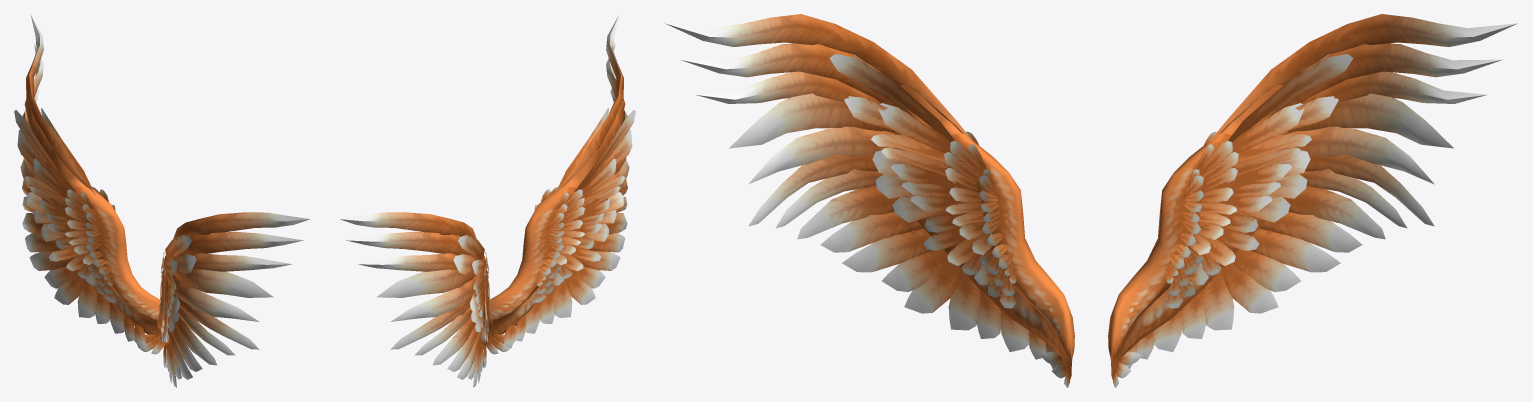
The model's file is Wings.glb.
3 renders of one model, left to right at view 1: azimuth 30°, elevation 25°; view 2: azimuth 150°, elevation 25°; view 3: azimuth 270°, elevation 25°, orthographic. The views are drawn at different scales.
Visible parts, largest first — view 1: Extras; view 2: Extras; view 3: Extras.
Part boxes in pixels (x1=…): Extras: x1=14, y1=15, x2=310, y2=387; Extras: x1=339, y1=15, x2=635, y2=387; Extras: x1=665, y1=14, x2=1517, y2=387.
Bounding box in the file's own units: 1.58 × 4.66 × 9.79.
1 material, 1 textured.
